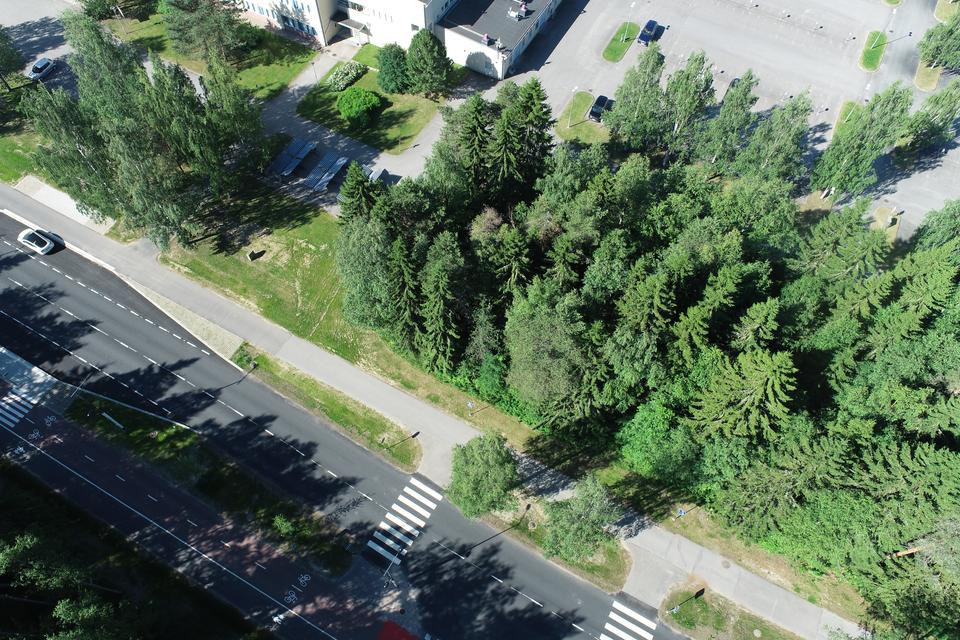intersection: (315, 397, 497, 640), (553, 515, 724, 640)
